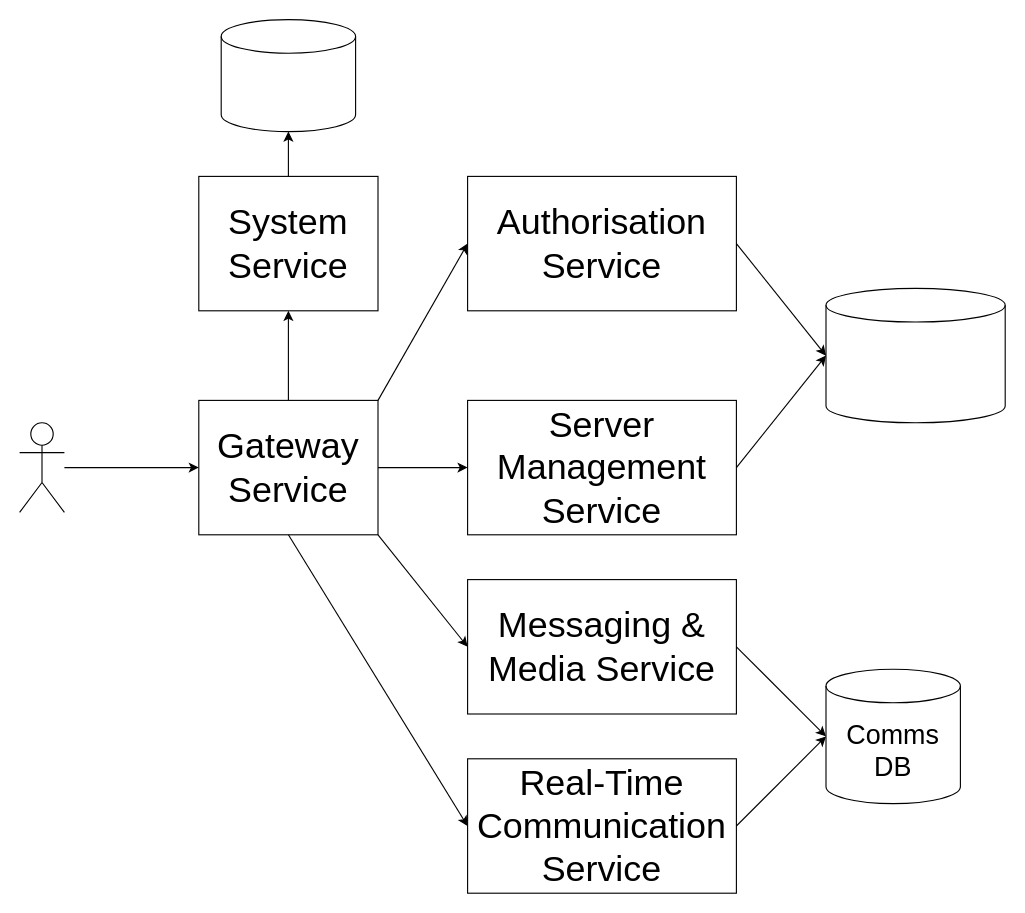
Image size: 1025x913. Some labels were removed from this diagram. The shapes that lost their labels are listed below. From the top down, each one's centre as x and y in pixels, then its label:
At pixel 288 75: "Audit DB".
At pixel 915 355: "Server Details DB".
At pixel 41 467: "Client".
